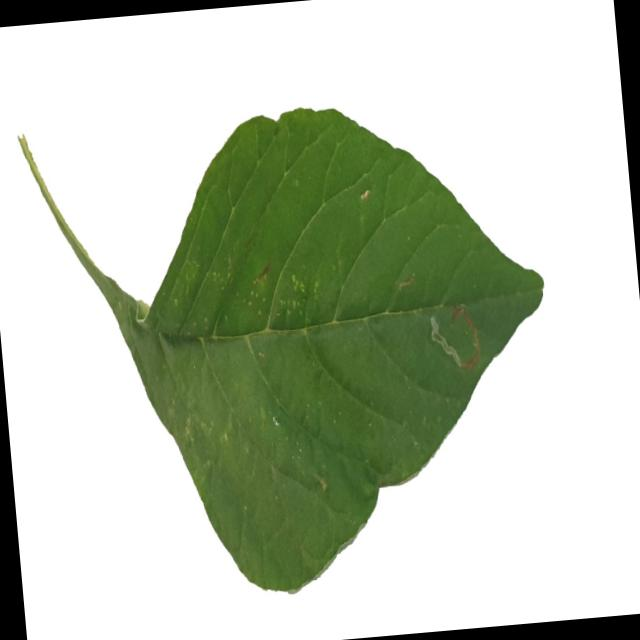Medicinal-Arive Dantu: (14, 76, 568, 616)
